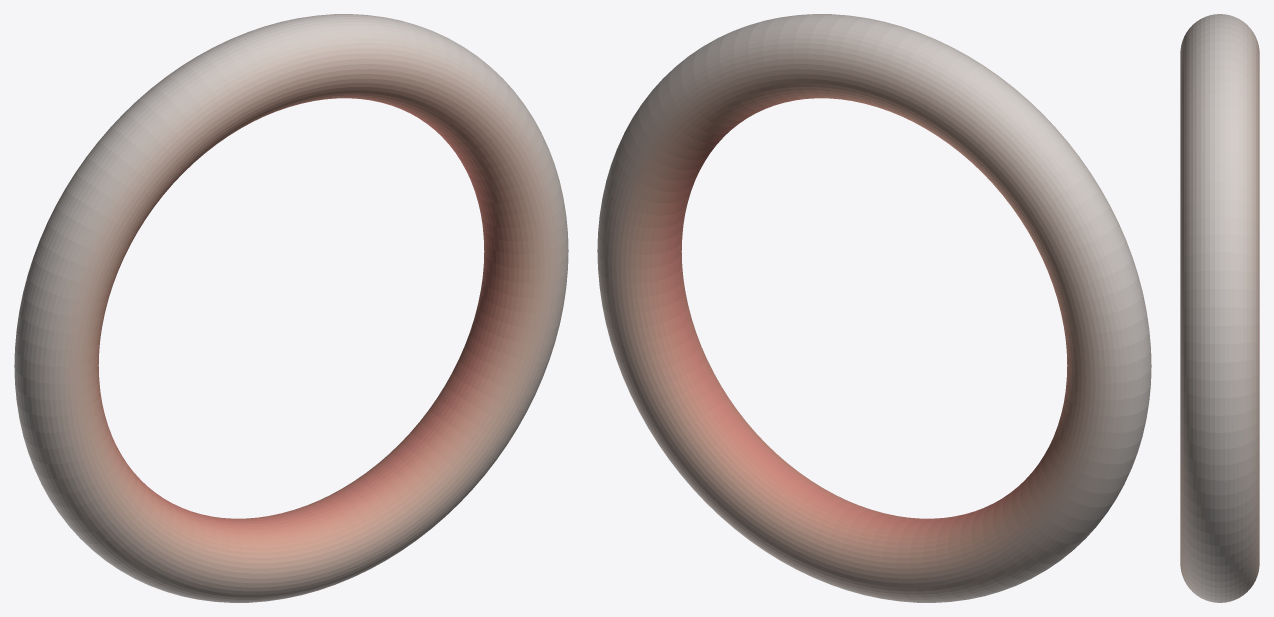
3 renders of one model, left to right at view 1: azimuth 30°, elevation 25°; view 2: azimuth 150°, elevation 25°; view 3: azimuth 270°, elevation 25°, orthographic. The views are drawn at different scales.
Parts seen in each view (by area): view 1: world; view 2: world; view 3: world.
Part boxes in pixels (x1=…): world: x1=14, y1=14, x2=568, y2=602; world: x1=597, y1=14, x2=1151, y2=602; world: x1=1180, y1=14, x2=1259, y2=602.
Size of the model in its own units: 34.67 by 34.67 by 4.66.
